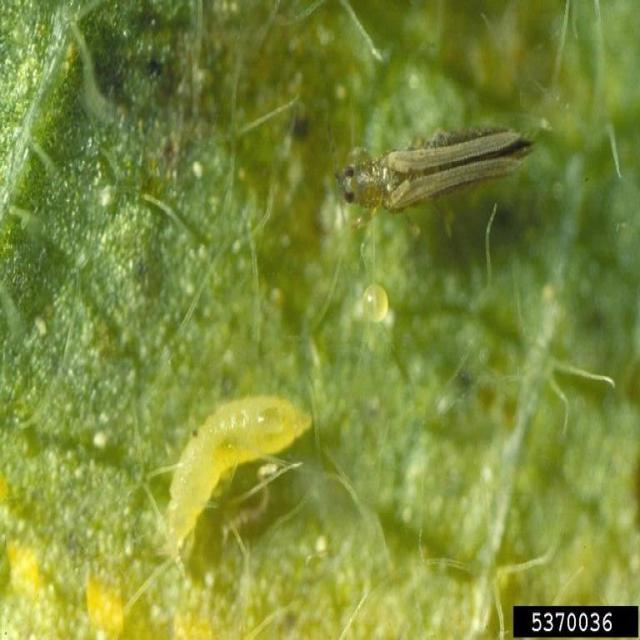Thrip-Adult-: (319, 101, 556, 227)
Thrip-Larva-: (146, 378, 336, 572)
